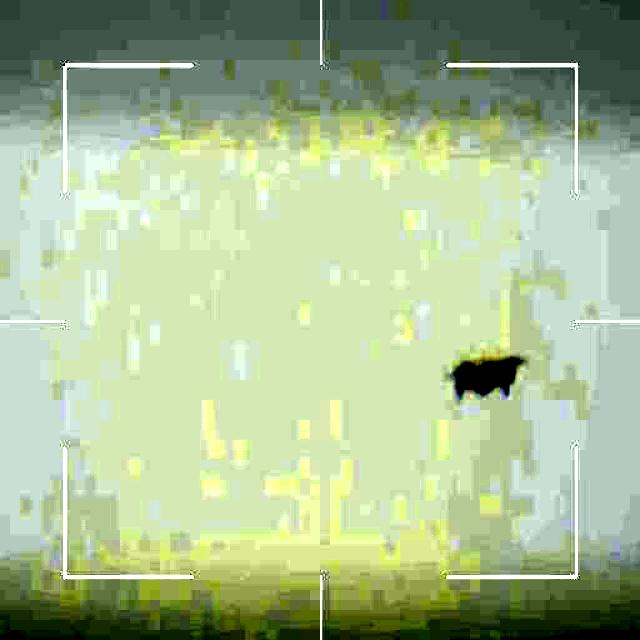bird: (452, 350, 522, 394)
